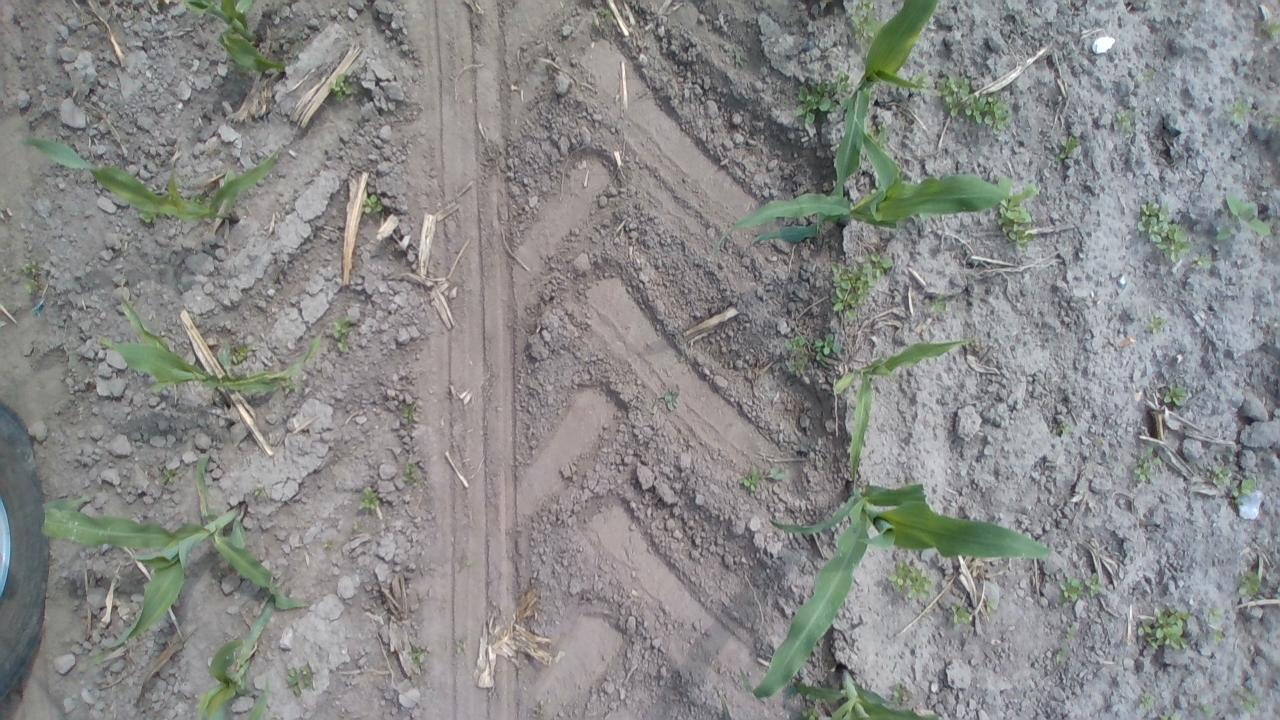Maize: (752, 466, 1056, 710), (29, 450, 318, 664), (701, 125, 1020, 253), (21, 121, 288, 221), (831, 326, 977, 492), (93, 302, 340, 400), (826, 0, 942, 203), (174, 0, 288, 81), (780, 671, 956, 720), (198, 613, 272, 720)
Weeds: (828, 249, 896, 324), (938, 75, 1016, 134), (786, 62, 850, 120), (1134, 200, 1192, 262), (994, 174, 1038, 253), (1134, 601, 1190, 657), (1216, 189, 1270, 246), (784, 330, 844, 380), (1054, 571, 1109, 613), (886, 556, 932, 606), (736, 460, 796, 496), (1228, 97, 1280, 132), (848, 0, 884, 47), (1232, 566, 1270, 604), (322, 68, 361, 104), (327, 314, 361, 354), (283, 661, 318, 699), (1054, 624, 1084, 668), (864, 118, 896, 152), (1051, 132, 1081, 168), (1240, 690, 1273, 720), (355, 484, 385, 517), (18, 259, 43, 295), (1110, 109, 1140, 137), (948, 600, 978, 628), (270, 376, 308, 398), (1132, 452, 1158, 484), (405, 640, 432, 670), (401, 463, 428, 493), (1232, 476, 1258, 507), (152, 463, 180, 490), (359, 194, 390, 218), (1260, 7, 1280, 44), (656, 386, 681, 415), (1164, 386, 1194, 410), (398, 398, 422, 425), (1212, 461, 1234, 488), (590, 4, 618, 25), (230, 340, 253, 364), (932, 293, 953, 319), (907, 72, 928, 98), (1203, 604, 1227, 625), (454, 633, 473, 659), (1142, 312, 1164, 334), (248, 483, 272, 503), (1154, 706, 1186, 720), (1194, 701, 1220, 718), (1057, 420, 1077, 441), (730, 46, 749, 68), (800, 706, 824, 720), (1210, 628, 1226, 646), (986, 594, 1000, 612), (1140, 696, 1154, 712), (1196, 253, 1208, 271)
